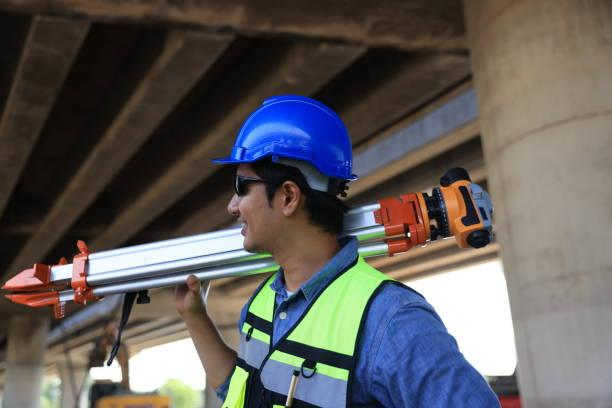goggle: (222, 174, 311, 198)
helmet: (207, 92, 365, 175)
vest: (217, 251, 432, 408)
